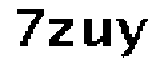7: (14, 6, 44, 48)
u: (82, 15, 113, 50)
y: (116, 14, 151, 59)
z: (47, 17, 74, 50)
